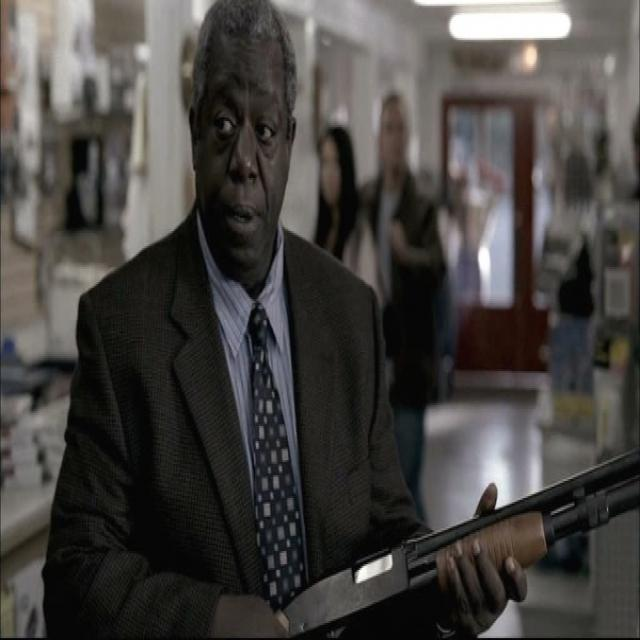rifle: (276, 443, 640, 640)
